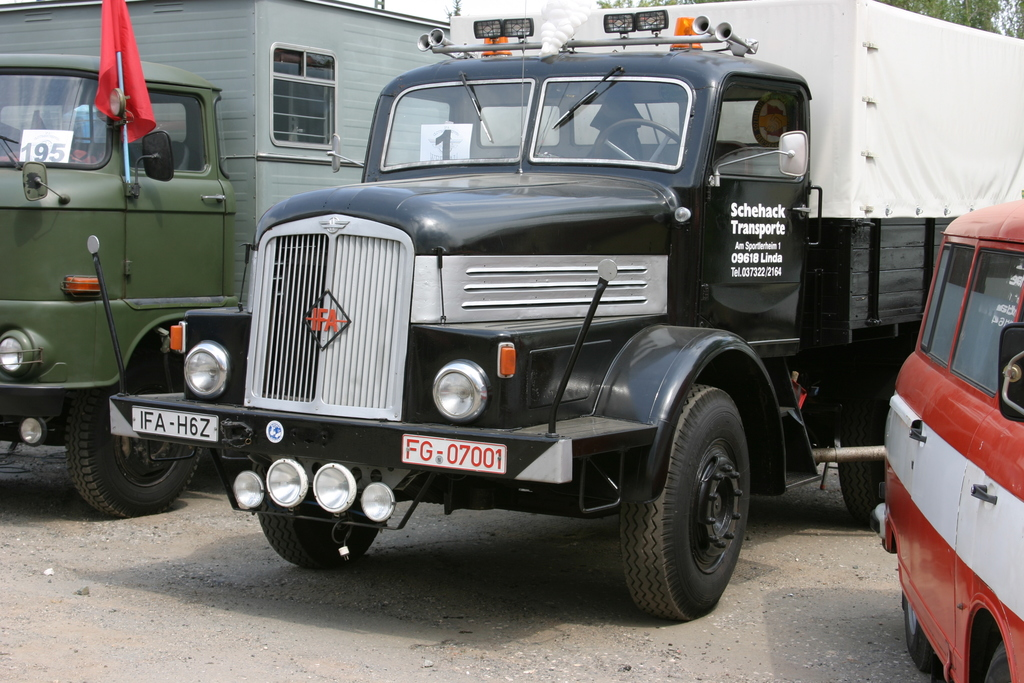mobil: (175, 75, 911, 616)
